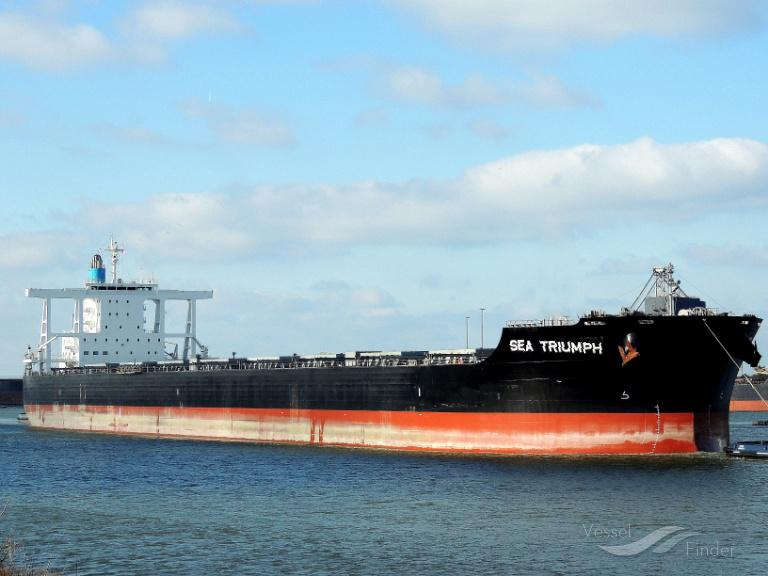OCR: (504, 328, 616, 360)
